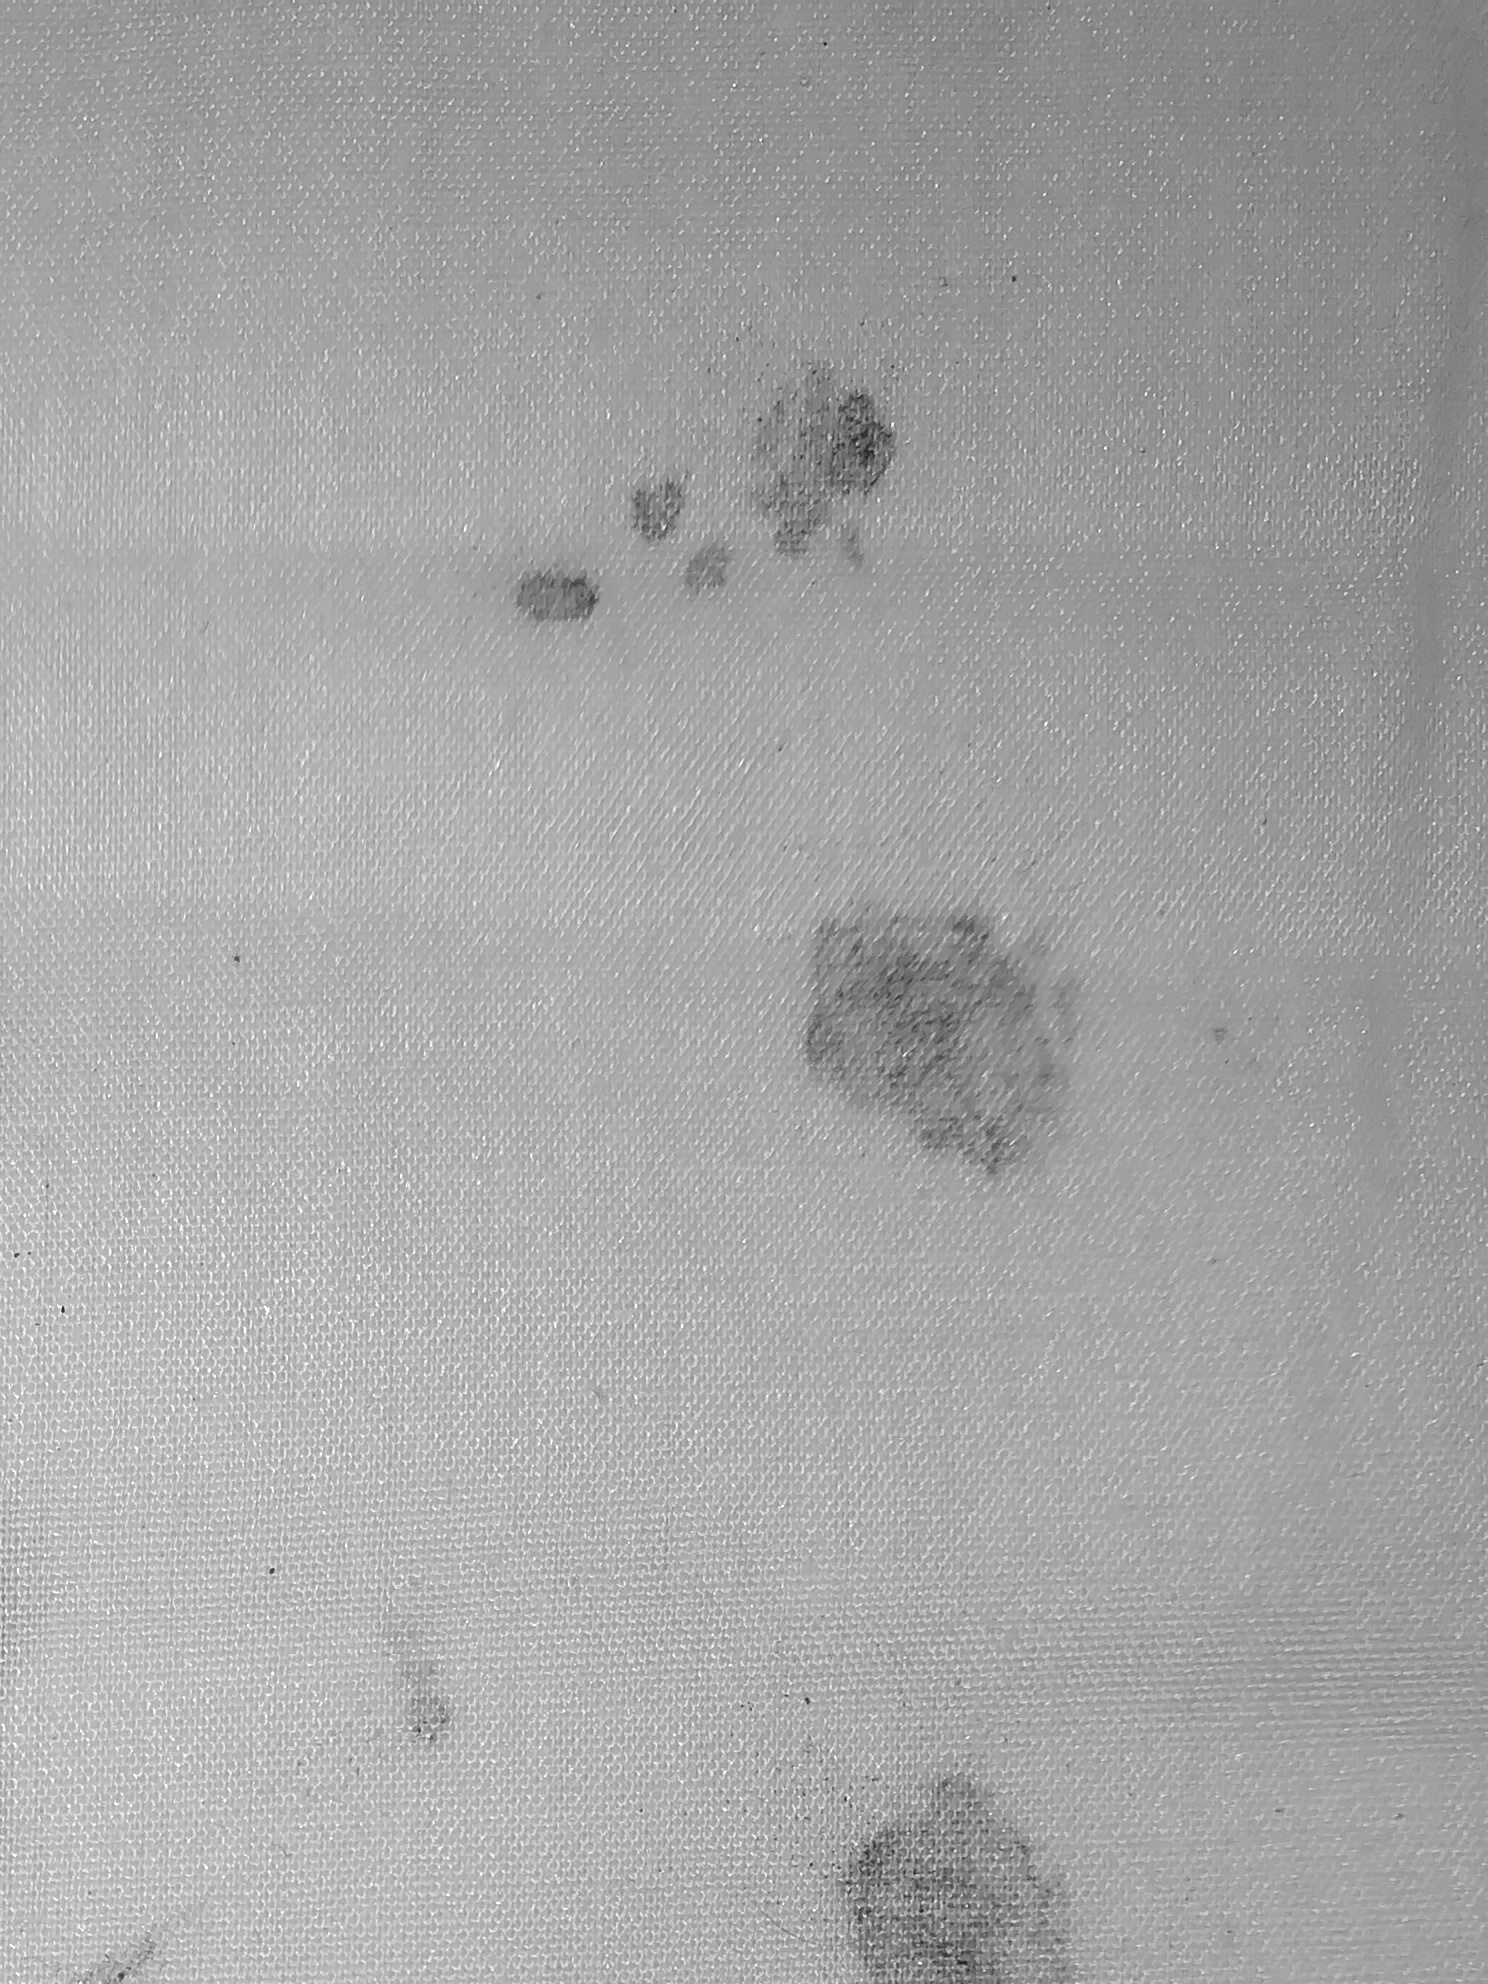Stain: (406, 270, 1046, 723), (671, 815, 1193, 1214), (675, 1709, 1325, 1984)
